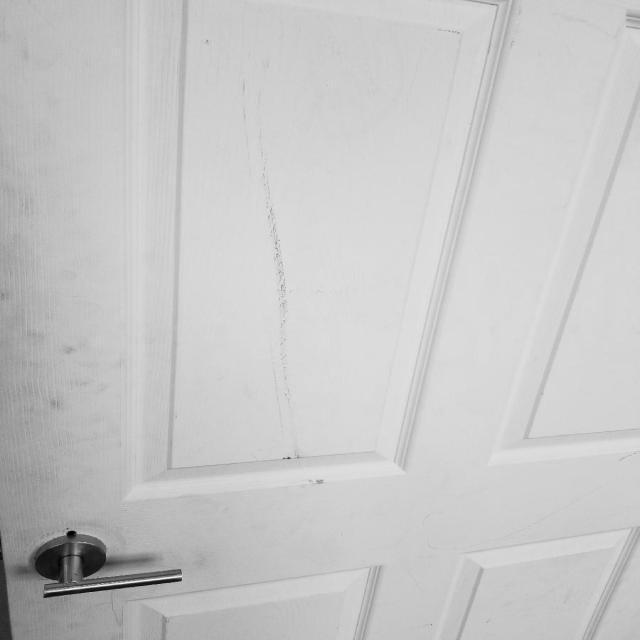door: (27, 530, 190, 600)
